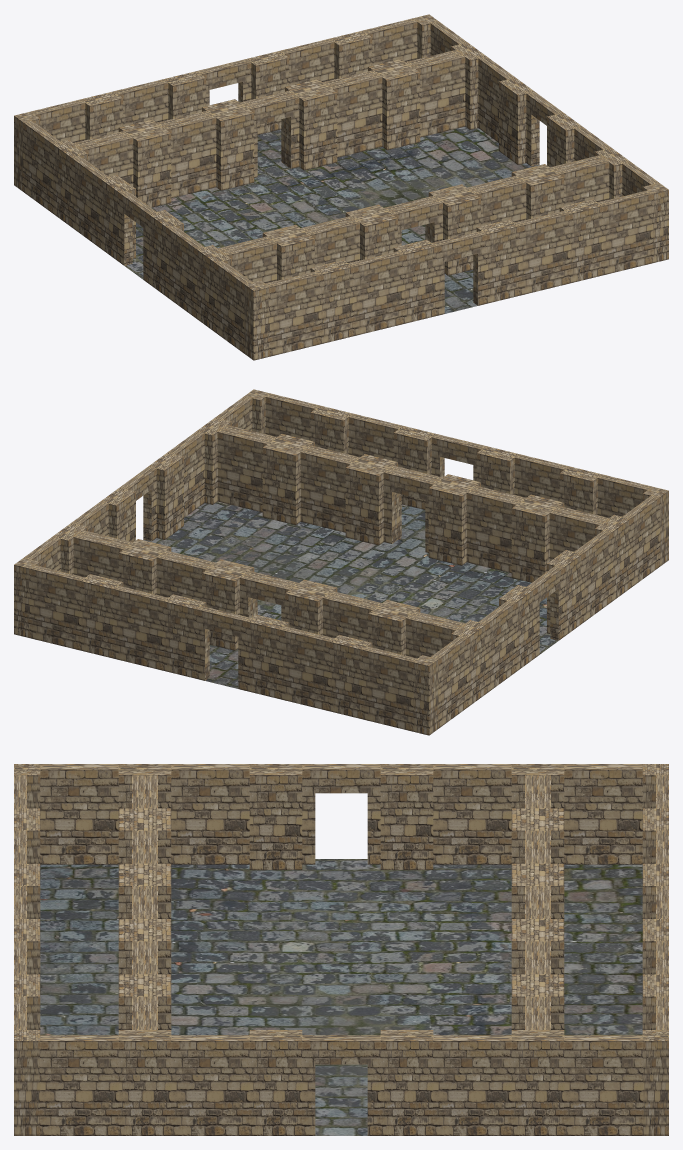
File: 1_5by5KeyMixer.fbx
3 views of the same model, one above another, from view 1: azimuth 30°, elevation 25°; view 2: azimuth 150°, elevation 25°; view 3: azimuth 270°, elevation 25° (orthographic). The views are drawn at different scales.
Visible parts, largest first — view 1: Cube_1, Plane; view 2: Cube_1, Plane; view 3: Cube_1, Plane.
Part boxes in pixels (x1,y1,x2,y2): Cube_1: (14,14,668,360); Plane: (125,126,539,313); Cube_1: (14,389,668,735); Plane: (143,501,557,688); Cube_1: (14,764,668,1135); Plane: (40,859,642,1135).
Bounding box in the file's own units: 50 × 8 × 50.
Materials: 2 (2 with a texture image).
